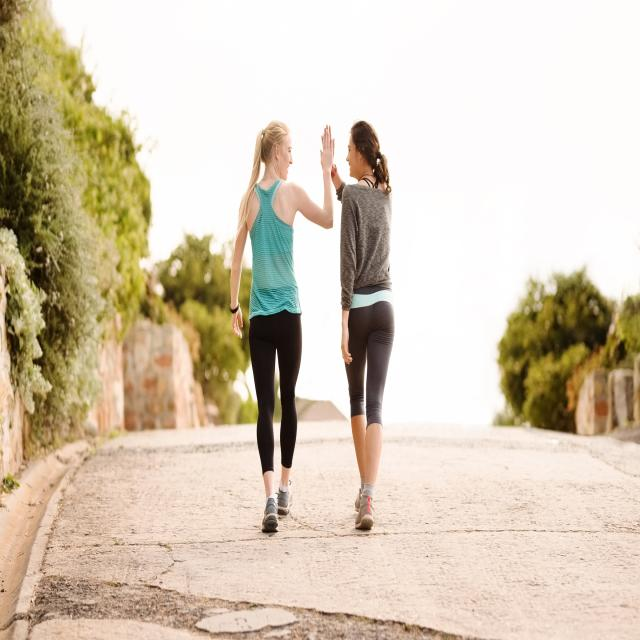Person: (230, 119, 333, 533), (320, 122, 394, 530)
